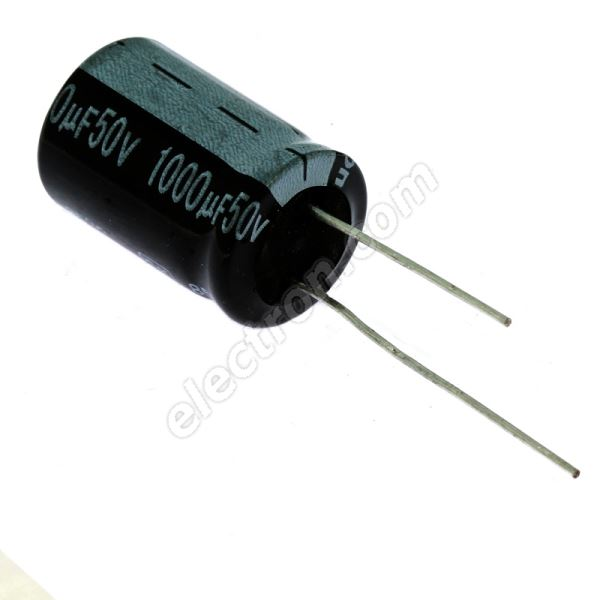capacitor: (22, 8, 425, 427)
